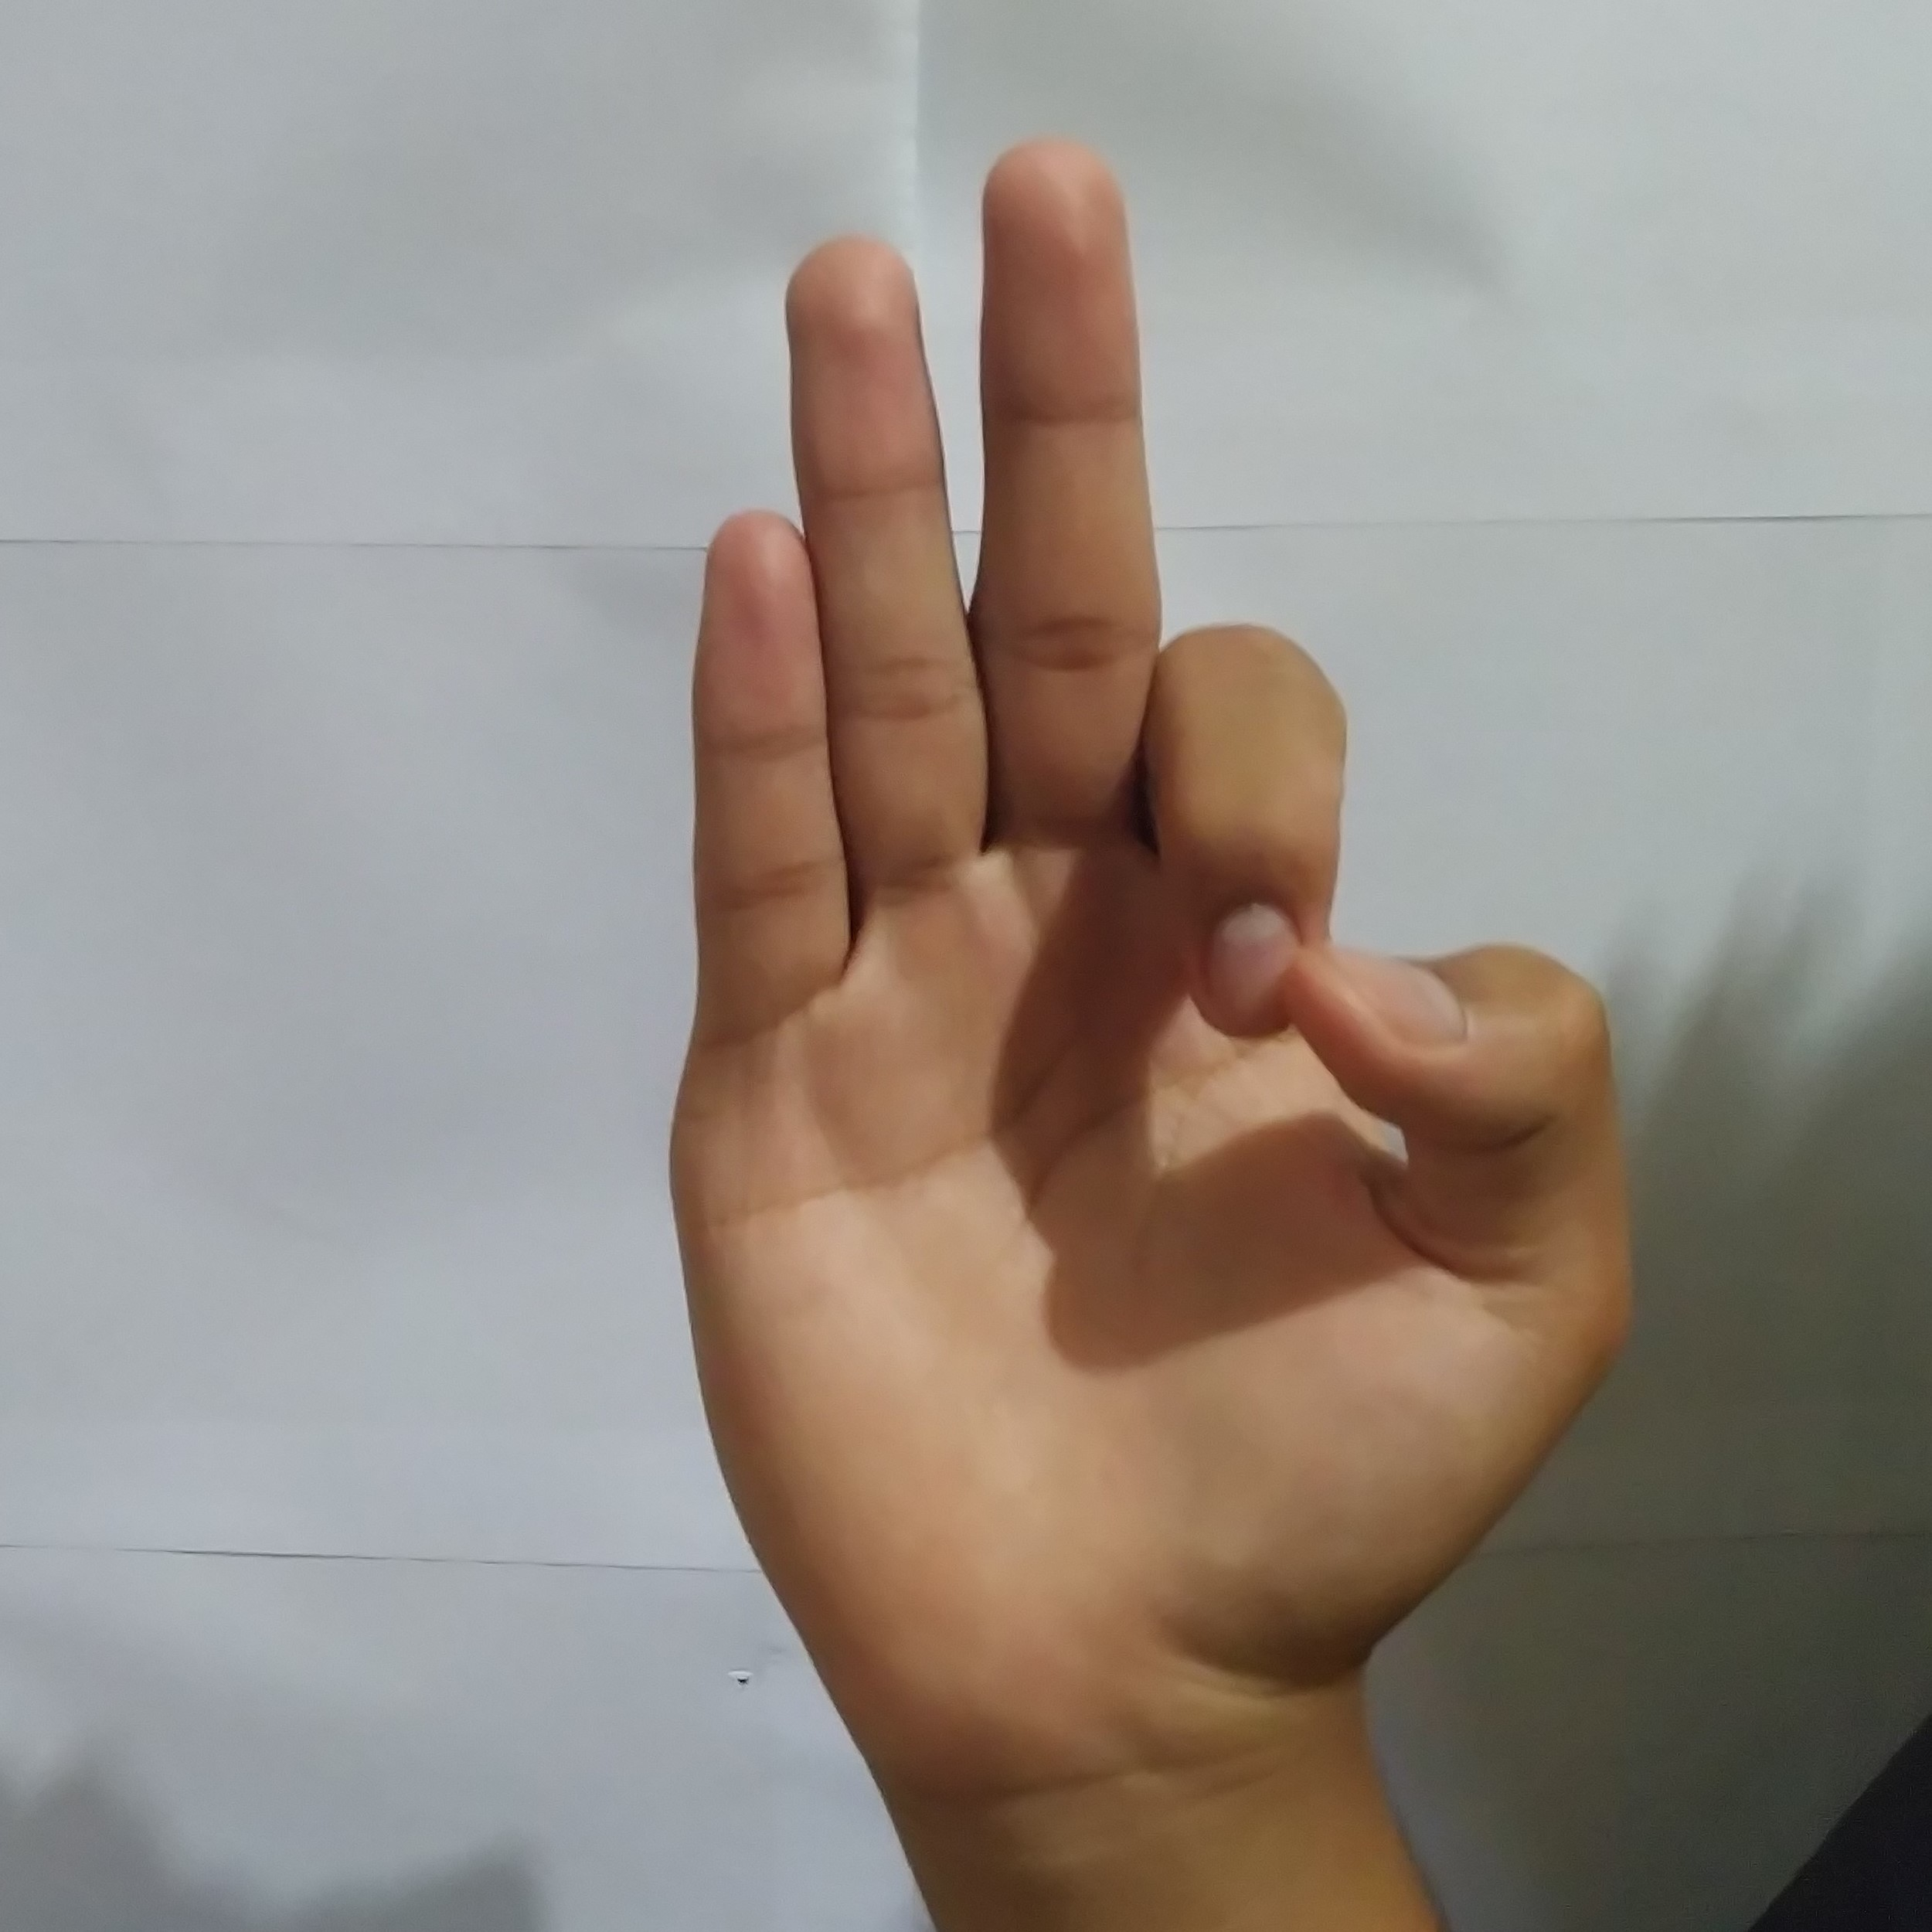F: (628, 117, 1656, 1690)
